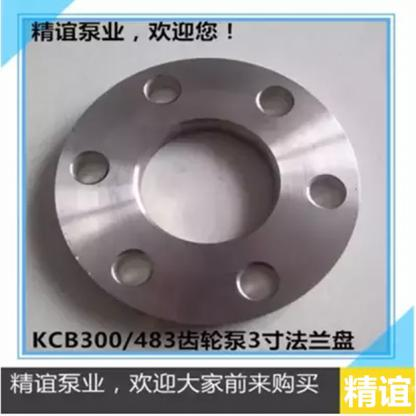FOD: (50, 53, 363, 330)
